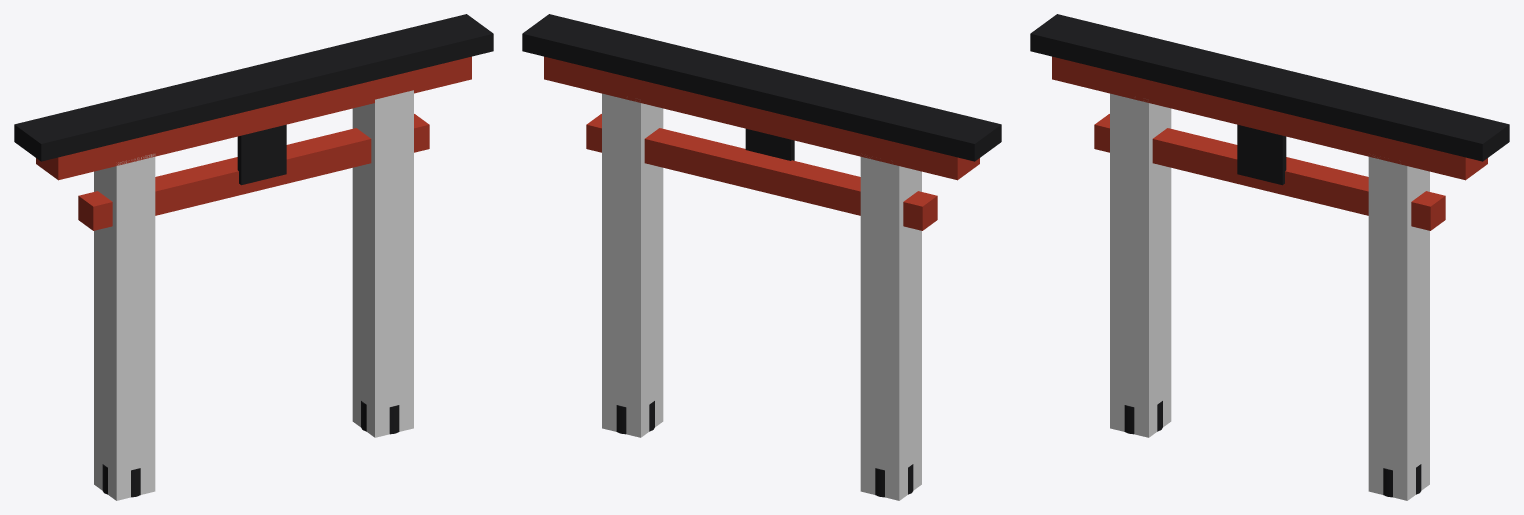
The model's file is torii.glb.
3 views of the same model, side by side, from view 1: azimuth 30°, elevation 25°; view 2: azimuth 150°, elevation 25°; view 3: azimuth 330°, elevation 25° (orthographic).
Parts seen in each view (by area): view 1: torii_Malla, COL_1, COL_0; view 2: torii_Malla, COL_0, COL_1; view 3: torii_Malla, COL_1, COL_0.
Boxes of the visible parts, left/top/right/bottom form: torii_Malla: left=14, top=14, right=493, bottom=497; COL_1: left=352, top=90, right=413, bottom=437; COL_0: left=94, top=154, right=155, bottom=500; torii_Malla: left=522, top=14, right=1001, bottom=497; COL_0: left=860, top=156, right=921, bottom=500; COL_1: left=602, top=93, right=663, bottom=437; torii_Malla: left=1030, top=14, right=1509, bottom=497; COL_1: left=1368, top=156, right=1429, bottom=500; COL_0: left=1110, top=93, right=1171, bottom=437.
Bounding box in the file's own units: 7 × 5.58 × 0.72.
